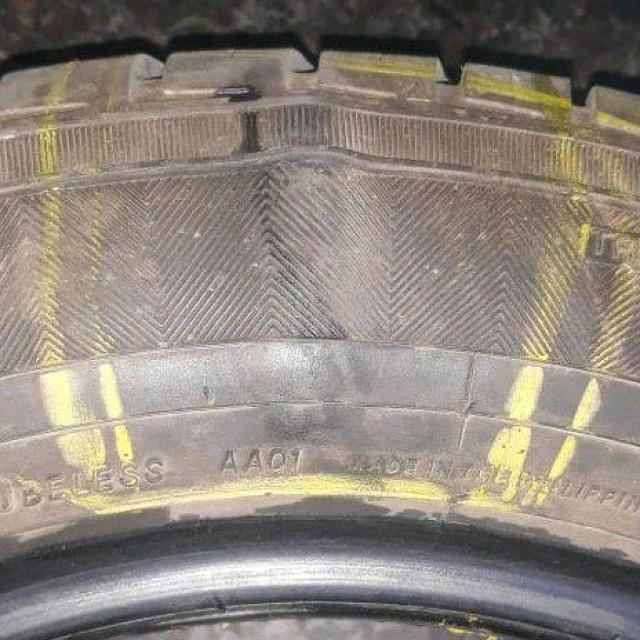Bulge: (242, 56, 395, 369)
